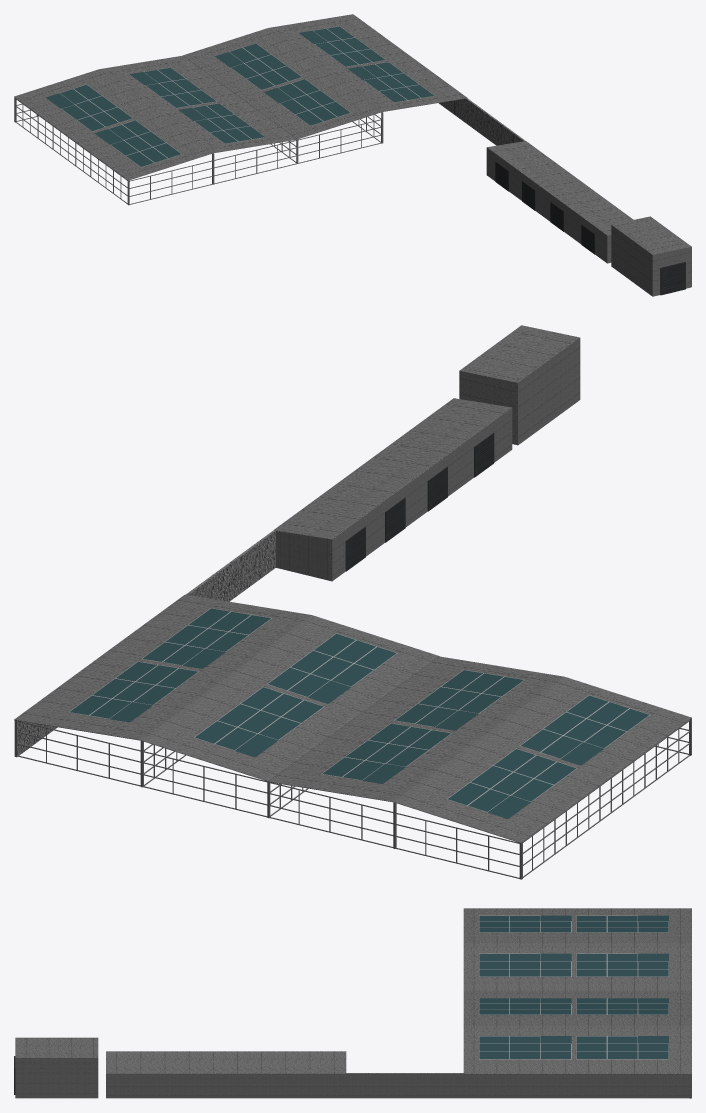
Rendered from 其他模型.glb.
3 renders of one model, top to bottom at view 1: azimuth 30°, elevation 25°; view 2: azimuth 150°, elevation 25°; view 3: azimuth 270°, elevation 25°, orthographic. The views are drawn at different scales.
Parts seen in each view (by area): view 1: fufang; view 2: fufang; view 3: fufang.
Part boxes in pixels (x1,y1,x2,y2): fufang: [14, 14, 691, 296]; fufang: [14, 325, 691, 879]; fufang: [14, 908, 691, 1098].
Bounding box in the file's own units: 51.87 × 6.11 × 90.
6 materials, 3 textured.
